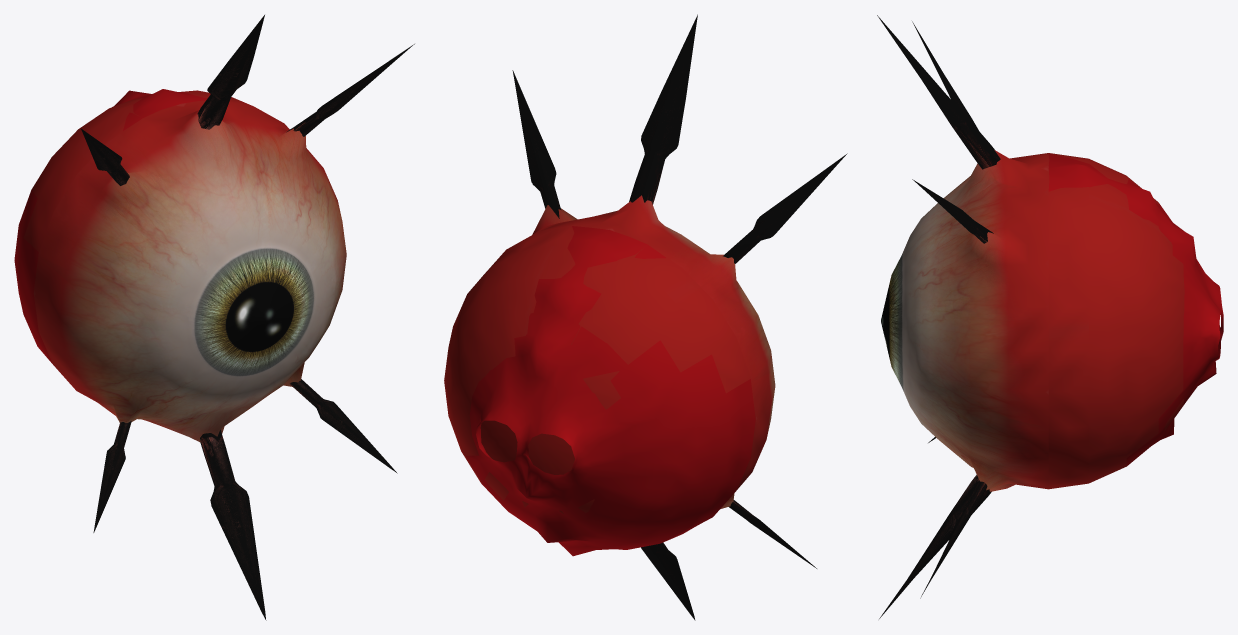
Rendered from avatar__eyeball(body).glb.
3 views of the same model, side by side, from view 1: azimuth 30°, elevation 25°; view 2: azimuth 150°, elevation 25°; view 3: azimuth 270°, elevation 25° (orthographic).
Visible parts, largest first — view 1: Creature.001; view 2: Creature.001; view 3: Creature.001.
Boxes of the visible parts, x1=… form: Creature.001: x1=14, y1=15, x2=414, y2=620; Creature.001: x1=444, y1=14, x2=847, y2=620; Creature.001: x1=877, y1=15, x2=1223, y2=618.
Size of the model in its own units: 1.3 by 2.25 by 1.17.
3 materials, 2 textured.
